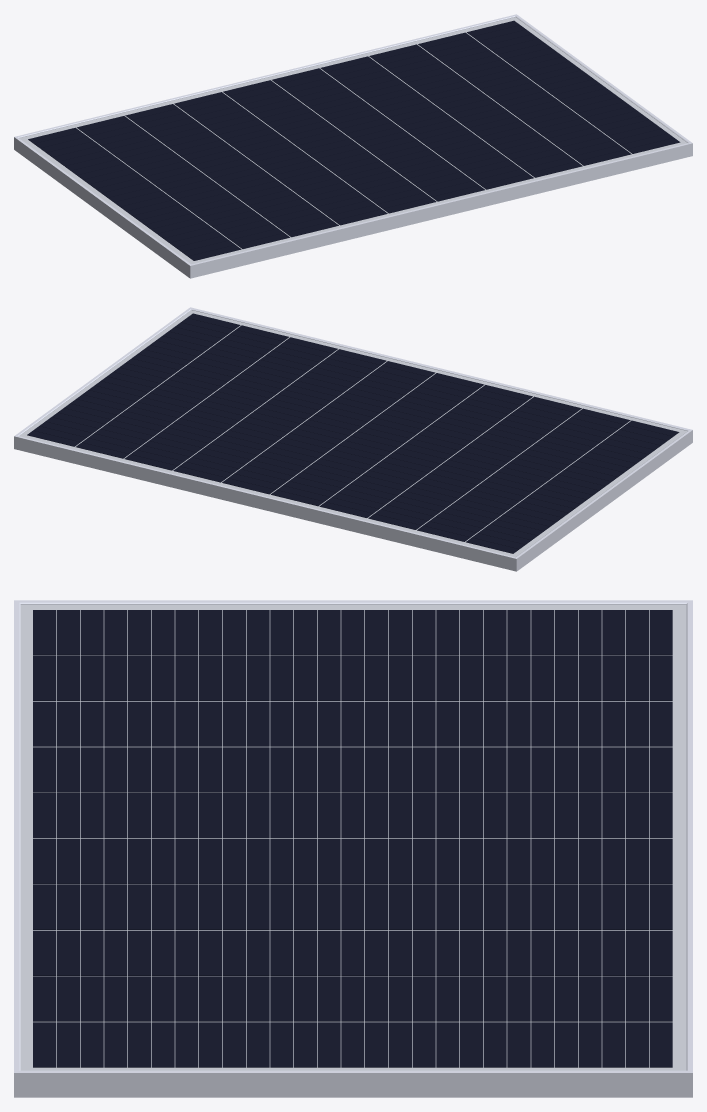
Rendered from panel2.glb.
The picture shows the model from 3 angles, top to bottom: view 1: azimuth 30°, elevation 25°; view 2: azimuth 150°, elevation 25°; view 3: azimuth 270°, elevation 25°; orthographic projection. The views are drawn at different scales.
Visible parts, largest first — view 1: Boss_Extrude1_RGB_170-178-196_0_24, Cut_Extrude1_1__RGB_202-209-238_0_12, Solar_frame_section_SECTION_1__4__RGB_202-209-238_0_10, Cut_Extrude1_2__RGB_202-209-238_0_14, Solar_frame_section_SECTION_1__2__RGB_202-209-238_0_8; view 2: Boss_Extrude1_RGB_170-178-196_0_24, Cut_Extrude1_2__RGB_202-209-238_0_14, Solar_frame_section_SECTION_1__4__RGB_202-209-238_0_10, Cut_Extrude1_1__RGB_202-209-238_0_12, Solar_frame_section_SECTION_1__2__RGB_202-209-238_0_8; view 3: Boss_Extrude1_RGB_170-178-196_0_24, Solar_frame_section_SECTION_1__2__RGB_202-209-238_0_8, Solar_frame_section_SECTION_1__4__RGB_202-209-238_0_10, Cut_Extrude1_1__RGB_202-209-238_0_12, Cut_Extrude1_2__RGB_202-209-238_0_14, Boss_Extrude2_30__RGB_64-64-64_0_28, Boss_Extrude2_31__RGB_64-64-64_0_30, Boss_Extrude2_33__RGB_64-64-64_0_34, Boss_Extrude2_34__RGB_64-64-64_0_36, Boss_Extrude2_35__RGB_64-64-64_0_38, Boss_Extrude2_37__RGB_64-64-64_0_42, Boss_Extrude2_38__RGB_64-64-64_0_44 (+263 smaller).
Part boxes in pixels (box(x1,y1,x2,y2)): Boss_Extrude1_RGB_170-178-196_0_24: box(19, 17, 687, 264); Cut_Extrude1_1__RGB_202-209-238_0_12: box(190, 143, 692, 278); Solar_frame_section_SECTION_1__4__RGB_202-209-238_0_10: box(14, 137, 191, 278); Cut_Extrude1_2__RGB_202-209-238_0_14: box(14, 14, 516, 137); Solar_frame_section_SECTION_1__2__RGB_202-209-238_0_8: box(515, 14, 692, 143); Boss_Extrude1_RGB_170-178-196_0_24: box(19, 310, 687, 557); Cut_Extrude1_2__RGB_202-209-238_0_14: box(14, 436, 516, 571); Solar_frame_section_SECTION_1__4__RGB_202-209-238_0_10: box(515, 430, 692, 571); Cut_Extrude1_1__RGB_202-209-238_0_12: box(190, 307, 692, 430); Solar_frame_section_SECTION_1__2__RGB_202-209-238_0_8: box(14, 307, 191, 436); Boss_Extrude1_RGB_170-178-196_0_24: box(20, 605, 686, 1070); Solar_frame_section_SECTION_1__2__RGB_202-209-238_0_8: box(14, 1070, 692, 1097); Solar_frame_section_SECTION_1__4__RGB_202-209-238_0_10: box(14, 600, 692, 604); Cut_Extrude1_1__RGB_202-209-238_0_12: box(14, 600, 20, 1072); Cut_Extrude1_2__RGB_202-209-238_0_14: box(686, 600, 692, 1072); Boss_Extrude2_30__RGB_64-64-64_0_28: box(602, 1022, 625, 1067); Boss_Extrude2_31__RGB_64-64-64_0_30: box(578, 1022, 601, 1067); Boss_Extrude2_33__RGB_64-64-64_0_34: box(531, 1022, 554, 1067); Boss_Extrude2_34__RGB_64-64-64_0_36: box(507, 1022, 530, 1067); Boss_Extrude2_35__RGB_64-64-64_0_38: box(483, 1022, 506, 1067); Boss_Extrude2_37__RGB_64-64-64_0_42: box(436, 1022, 459, 1067); Boss_Extrude2_38__RGB_64-64-64_0_44: box(412, 1022, 435, 1067).
Size of the model in its own units: 1.65 by 0.04 by 1.
